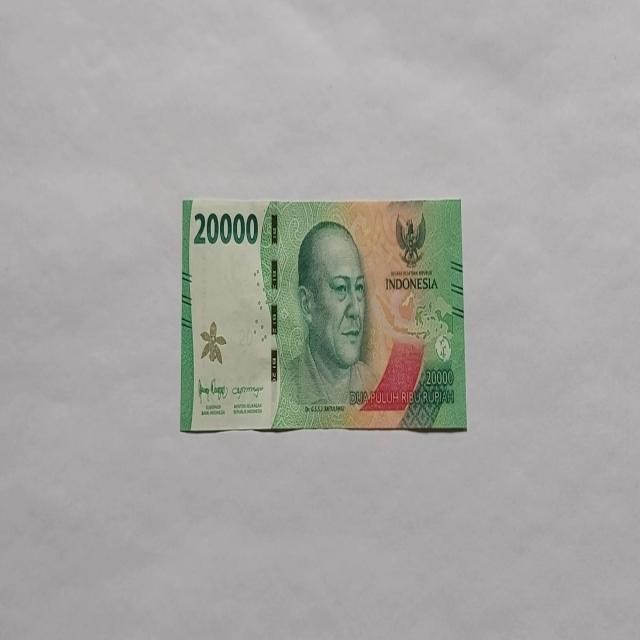dua puluh ribu rupiah: (179, 195, 467, 434)
